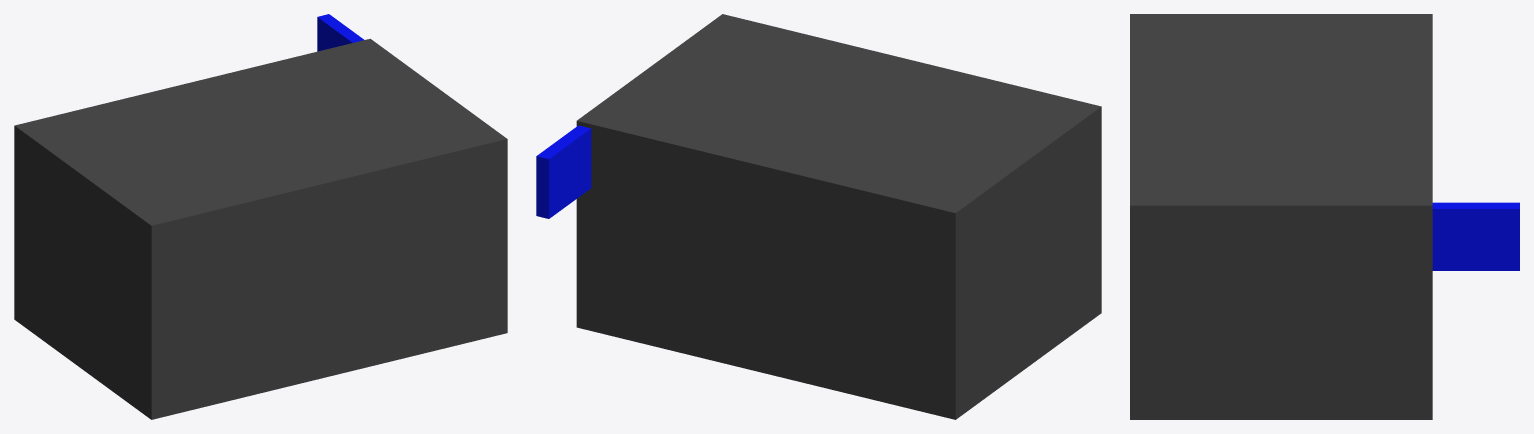
The model's file is building 4.fbx.
3 views of the same model, side by side, from view 1: azimuth 30°, elevation 25°; view 2: azimuth 150°, elevation 25°; view 3: azimuth 270°, elevation 25° (orthographic). The views are drawn at different scales.
Visible parts, largest first — view 1: pCube15, pCube19; view 2: pCube15, pCube19; view 3: pCube15, pCube19.
Boxes of the visible parts, <box> form: pCube15: <box>14,38,507,419</box>; pCube19: <box>317,14,363,51</box>; pCube15: <box>576,14,1101,419</box>; pCube19: <box>536,125,591,218</box>; pCube15: <box>1130,14,1432,419</box>; pCube19: <box>1432,202,1519,270</box>.
Size of the model in its own units: 12 by 6.25 by 10.31.
